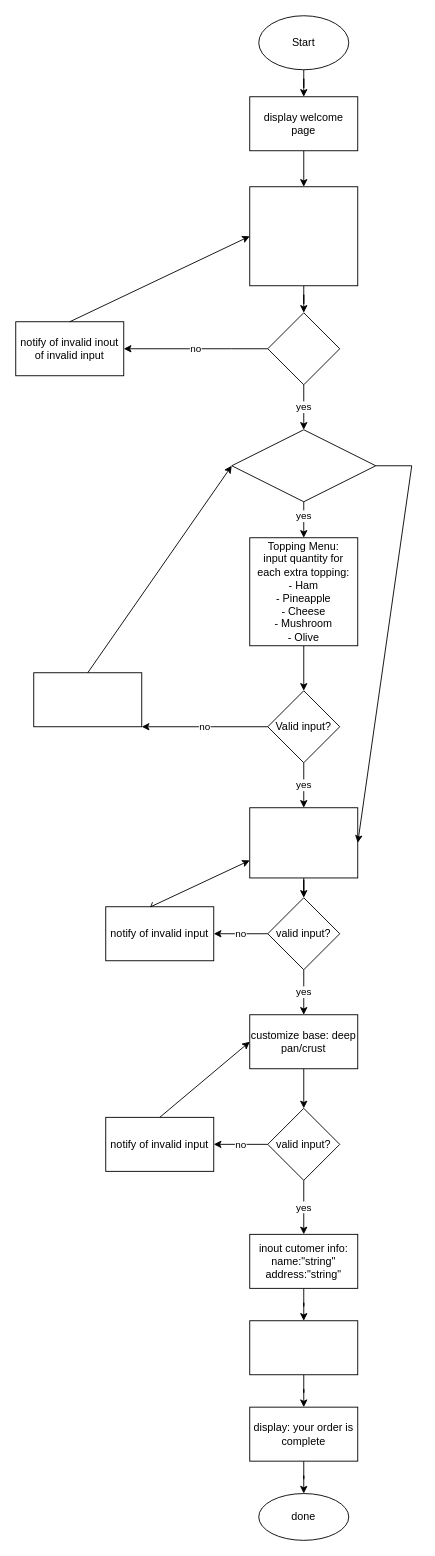
Image size: 435x1556. Some labels were removed from this diagram. The box of each missing label's shape, as (x1, y1, x2, y2) in pixels:
Customize Sauce, choose: -BBQ -Tomato -Whiite sauce: (249, 807, 358, 878)
display menu: select pizza type - Hawaii -Meat -Vegie -Seafood: (249, 186, 358, 286)
Do you want to add extra topping: (231, 429, 376, 502)
invalid input ?: (267, 312, 340, 385)
notify of invalid number: (33, 672, 142, 727)
print check out sum of total price, oizza type, base, sauce: (249, 1320, 358, 1375)
